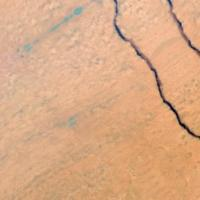crack: (96, 0, 199, 146)
